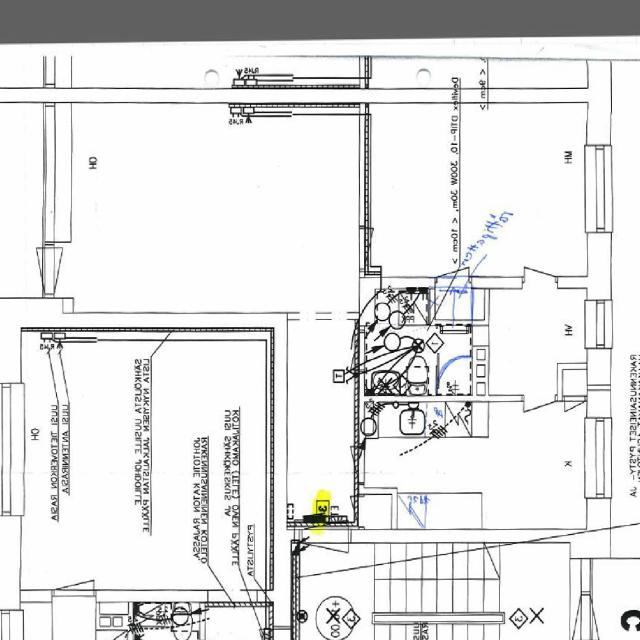door: (302, 528, 348, 596), (3, 248, 55, 294), (43, 248, 95, 294), (524, 237, 557, 288), (359, 228, 400, 268), (324, 330, 364, 370), (524, 395, 556, 437), (328, 447, 364, 482), (332, 496, 364, 528), (564, 395, 586, 425)
